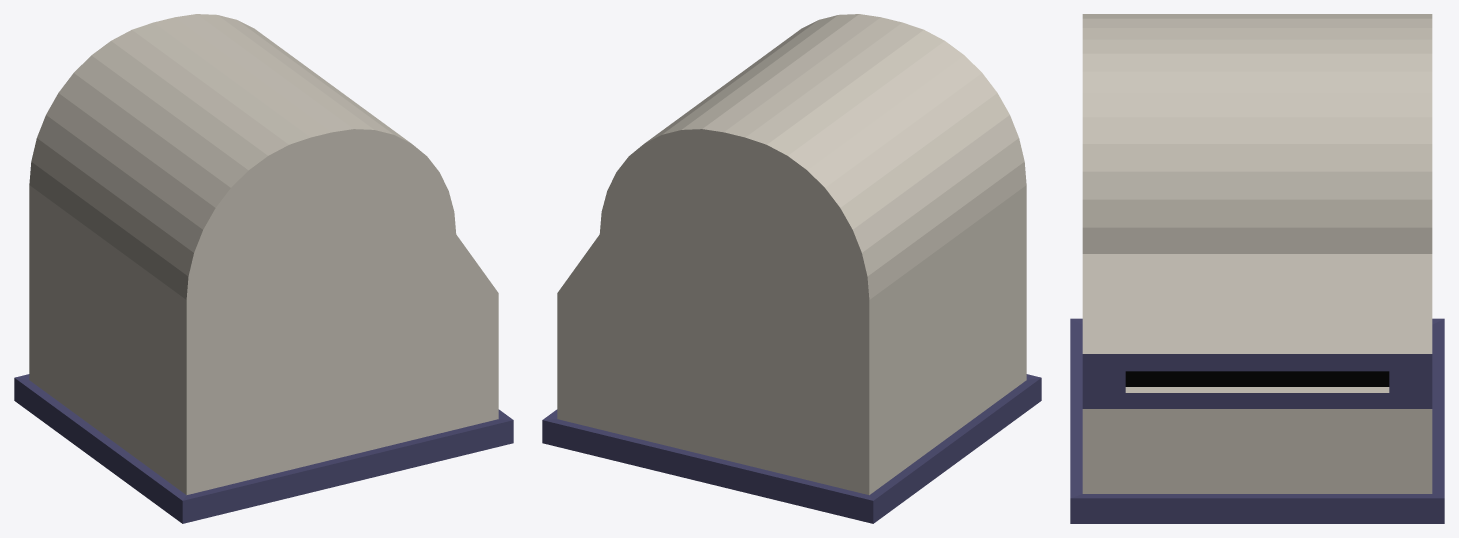
Rendered from StickerDispenser.glb.
3 views of the same model, side by side, from view 1: azimuth 30°, elevation 25°; view 2: azimuth 150°, elevation 25°; view 3: azimuth 270°, elevation 25° (orthographic). The views are drawn at different scales.
Parts seen in each view (by area): view 1: SingleDispenser; view 2: SingleDispenser; view 3: SingleDispenser.
Part boxes in pixels (bbox=[...]): SingleDispenser: bbox=[14, 14, 513, 523]; SingleDispenser: bbox=[542, 14, 1041, 523]; SingleDispenser: bbox=[1070, 14, 1444, 523].
Bounding box in the file's own units: 0.9981 × 1.01 × 0.879.
